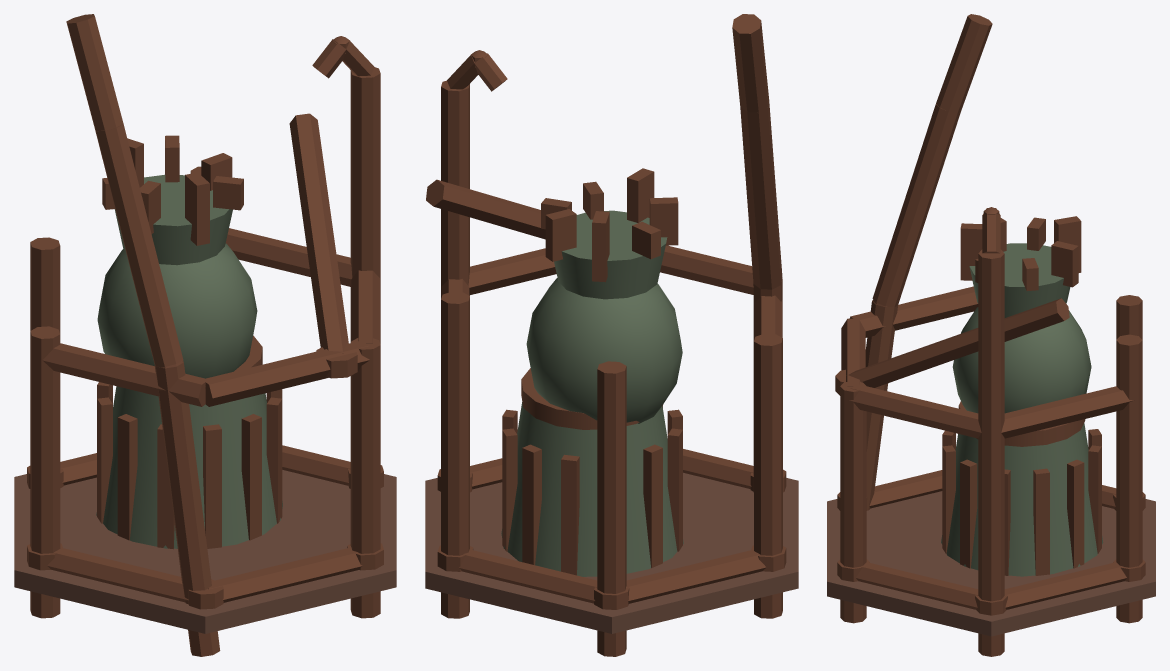
File: fulgora-sunk-ruin-medium-tall.glb
3 views of the same model, side by side, from view 1: azimuth 30°, elevation 25°; view 2: azimuth 150°, elevation 25°; view 3: azimuth 270°, elevation 25° (orthographic). The views are drawn at different scales.
Parts seen in each view (by area): view 1: body; view 2: body; view 3: body.
Boxes of the visible parts, box(x1,y1,x2,y2) form: body: box(14, 14, 396, 656); body: box(425, 14, 798, 656); body: box(827, 14, 1155, 656).
Size of the model in its own units: 1.86 by 2.78 by 1.61.
